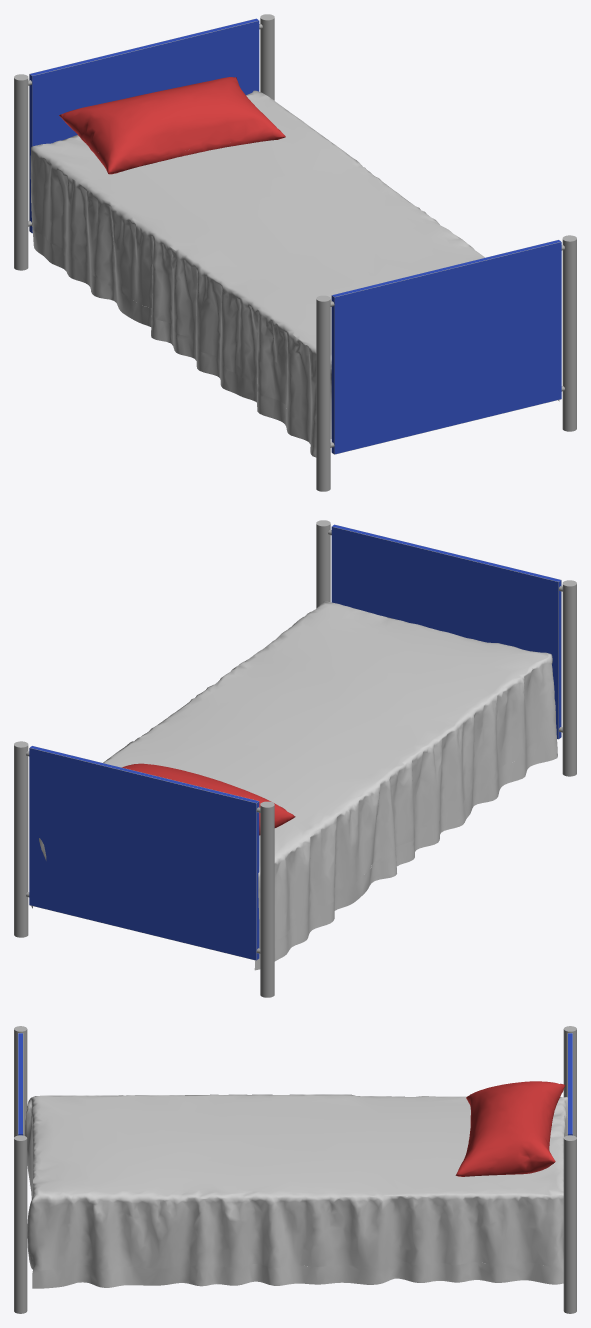
File: bed.fbx
3 renders of one model, top to bottom at view 1: azimuth 30°, elevation 25°; view 2: azimuth 150°, elevation 25°; view 3: azimuth 270°, elevation 25°, orthographic. The views are drawn at different scales.
Visible parts, largest first — view 1: savanna, headboard_leg, headboard_leg1, pillow01; view 2: savanna, headboard_leg1, headboard_leg, pillow01; view 3: savanna, pillow01, headboard_leg, headboard_leg1.
Boxes of the visible parts, <box> form: savanna: <box>30,90,559,457</box>; headboard_leg: <box>316,235,576,491</box>; headboard_leg1: <box>14,14,274,270</box>; pillow01: <box>59,77,285,174</box>; savanna: <box>31,601,557,970</box>; headboard_leg1: <box>14,741,274,997</box>; headboard_leg: <box>316,520,576,776</box>; pillow01: <box>122,763,295,835</box>; savanna: <box>25,1094,567,1288</box>; pillow01: <box>455,1081,565,1176</box>; headboard_leg: <box>14,1026,27,1313</box>; headboard_leg1: <box>563,1026,576,1313</box>.
Bounding box in the file's own units: 103 × 72 × 212.
